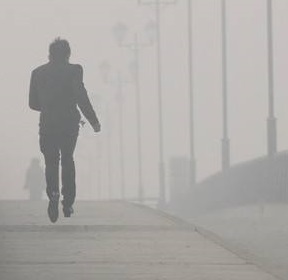person: (28, 35, 103, 225)
